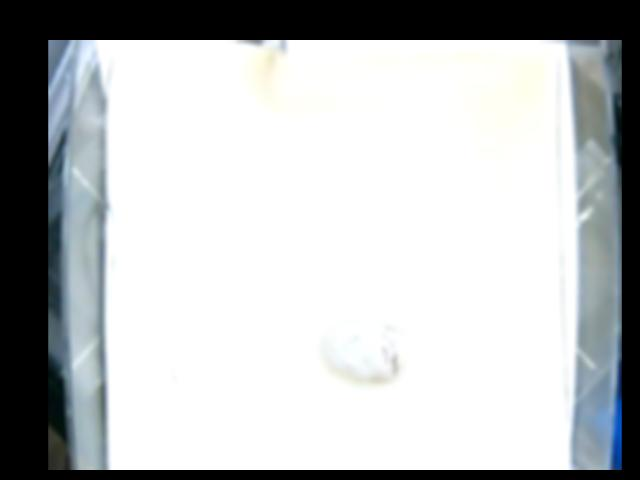Pebble: (319, 318, 403, 384)
